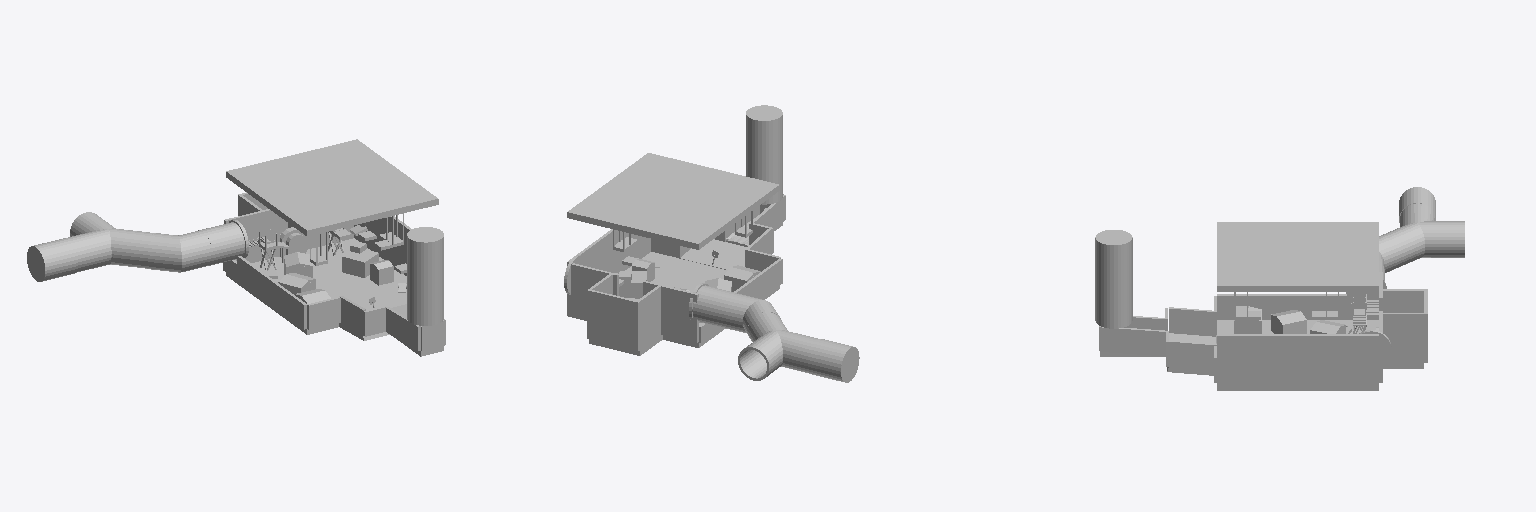
The model's file is Level 1v2.obj.
The picture shows the model from 3 angles: view 1: azimuth 30°, elevation 25°; view 2: azimuth 150°, elevation 25°; view 3: azimuth 270°, elevation 25°; orthographic projection.
Parts seen in each view (by area): view 1: Cube.056, Cube.009, Cylinder, Wye_Joint, Elbow_Joint.001, Cube.012, Cylinder.006, Cube.014, Cylinder.002, Cube.013, Cube.021, Cube.072 (+4 smaller); view 2: Cube.056, Wye_Joint, Cylinder, Cube.047, Cube.009, Cube.014, Cylinder.006, Cube.013, Cube.040, Cylinder.002, Cube.006, Elbow_Joint.001 (+4 smaller); view 3: Cube.056, Cube.013, Cylinder, Wye_Joint, Cube.012, Cube.048, Cube.009, Cube.001, Cube.050, Cube.051, Cube.049, Cube.006 (+2 smaller).
Part boxes in pixels (x1,y1,x2,y2): Cube.056: (226,139,438,236); Cube.009: (226,238,406,334); Cylinder: (407,227,443,325); Wye_Joint: (68,212,153,272); Elbow_Joint.001: (148,230,211,272); Cube.012: (237,256,306,329); Cylinder.006: (27,238,77,281); Cube.014: (224,209,279,262); Cylinder.002: (198,222,244,265); Cube.013: (354,216,411,275); Cube.021: (386,307,420,350); Cube.072: (307,297,340,329); Cube.056: (567,153,779,249); Wye_Joint: (738,312,817,380); Cylinder: (746,105,782,204); Cube.047: (587,289,639,350); Cube.009: (567,252,779,347); Cube.014: (643,281,698,342); Cylinder.006: (808,339,859,382); Cube.013: (567,229,650,309); Cube.040: (568,263,618,316); Cylinder.002: (692,285,738,328); Cube.006: (679,239,771,269); Elbow_Joint.001: (725,294,780,335); Cube.056: (1217,222,1378,291); Cube.013: (1217,334,1378,383); Cylinder: (1095,230,1132,328); Wye_Joint: (1382,203,1464,268); Cube.012: (1217,294,1350,319); Cube.048: (1383,313,1423,362); Cube.009: (1217,320,1378,390); Cube.001: (1100,327,1168,356); Cube.050: (1169,307,1216,336); Cube.051: (1169,340,1216,369); Cube.049: (1383,289,1423,312); Cube.006: (1167,333,1215,375).
Bounding box in the file's own units: 103 × 39.67 × 109.